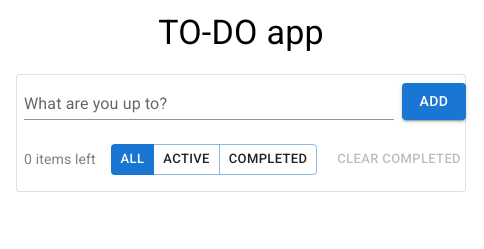
Test: clears completed todos
The image size is (484, 249).
Step 1. Type "Completed Todo" into the field labelled "What are you up to?" → (209, 106), box [24, 91, 394, 120]
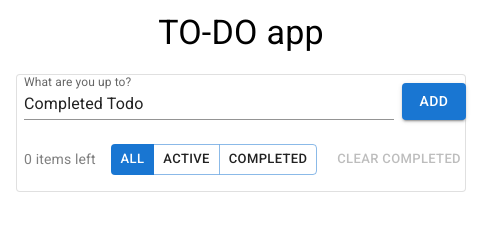
Step 2. Click the button "Add" → (434, 101), box [402, 83, 466, 120]
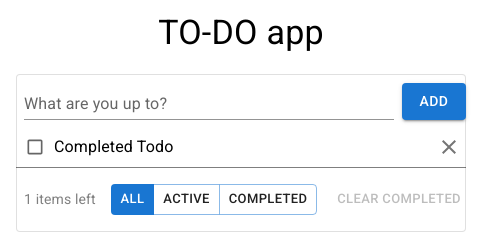
Step 3. Click the checkbox → (35, 148), box [25, 138, 45, 158]
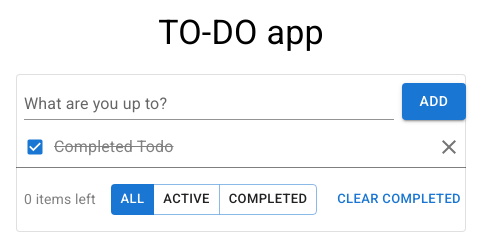
Step 4. Click the button "Clear completed" → (399, 199), box [332, 184, 466, 215]
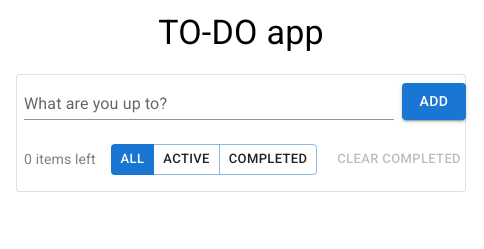
expect the text "Completed Todo" is gone: met
